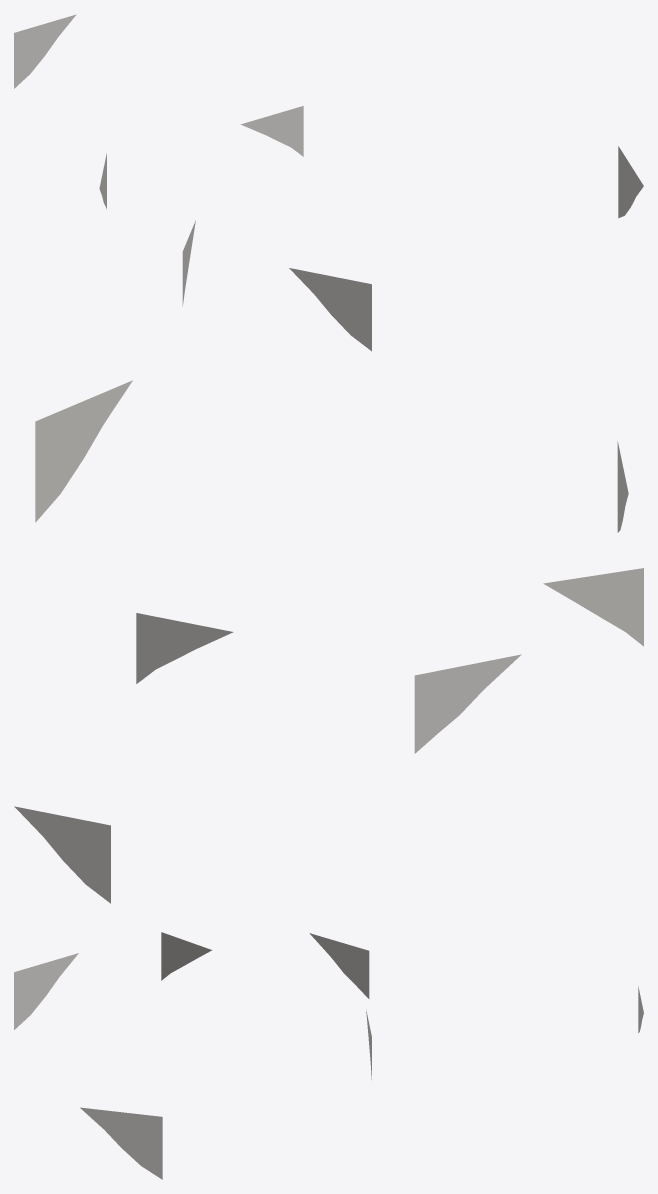
Rendered from kd_stage_135ded_4_78.glb.
3 views of the same model, one above another, from view 1: azimuth 30°, elevation 25°; view 2: azimuth 150°, elevation 25°; view 3: azimuth 270°, elevation 25° (orthographic). The views are drawn at different scales.
Visible parts, largest first — view 1: kd_stage_135ded_4_78; view 2: kd_stage_135ded_4_78; view 3: kd_stage_135ded_4_78.
Part boxes in pixels (x1,y1,x2,y2): kd_stage_135ded_4_78: (14, 14, 643, 351); kd_stage_135ded_4_78: (14, 380, 643, 903); kd_stage_135ded_4_78: (14, 932, 643, 1179).
Bounding box in the file's own units: 3.43 × 0.5867 × 4.96.
1 material, 1 textured.
